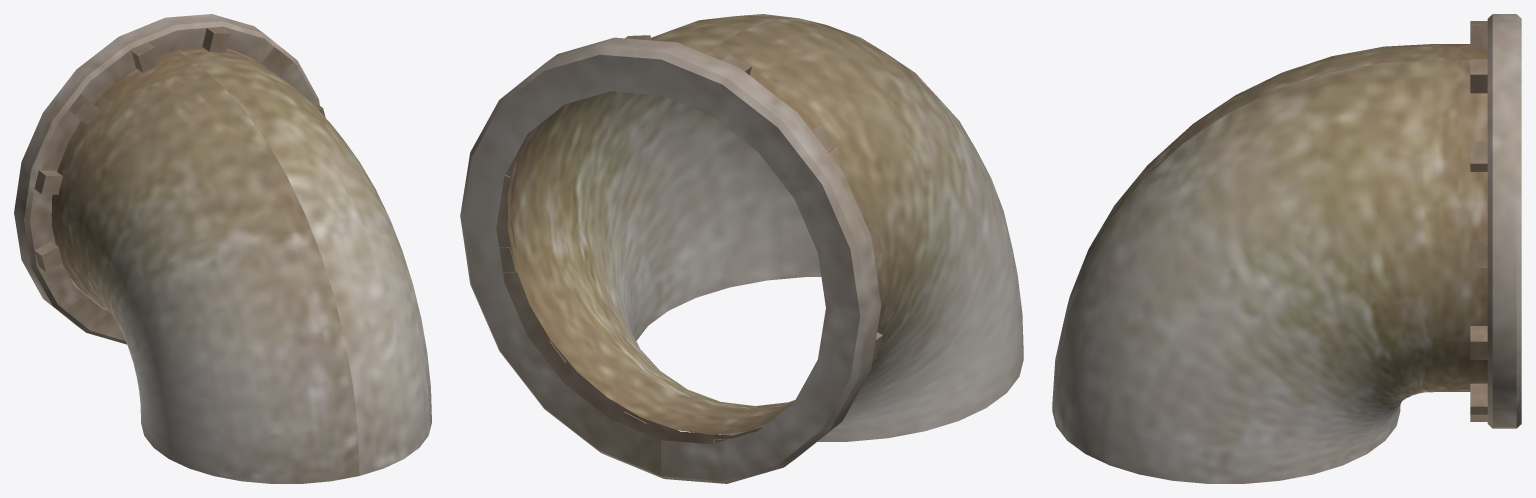
The model's file is pipe-to-ground.glb.
3 views of the same model, side by side, from view 1: azimuth 30°, elevation 25°; view 2: azimuth 150°, elevation 25°; view 3: azimuth 270°, elevation 25° (orthographic). The views are drawn at different scales.
Visible parts, largest first — view 1: body; view 2: body; view 3: body.
Part boxes in pixels (left/top/right/bottom): body: left=14, top=14, right=431, bottom=483; body: left=460, top=14, right=1023, bottom=483; body: left=1052, top=14, right=1521, bottom=483.
Bounding box in the file's own units: 0.756 × 0.756 × 0.8494.
Materials: 1 (1 with a texture image).
